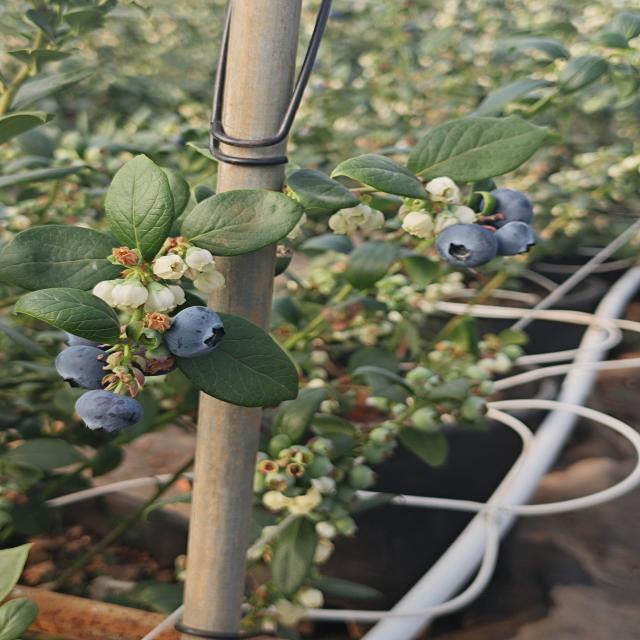ripe: (161, 304, 228, 361), (72, 388, 146, 435), (432, 222, 500, 270), (474, 186, 540, 228), (490, 214, 545, 259), (54, 339, 109, 379), (65, 323, 114, 351)
